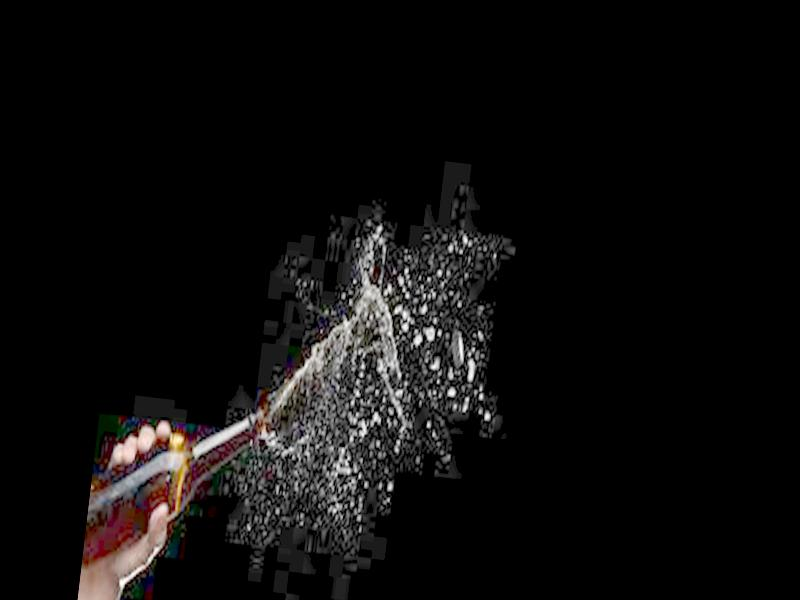Beer: (82, 386, 266, 591)
